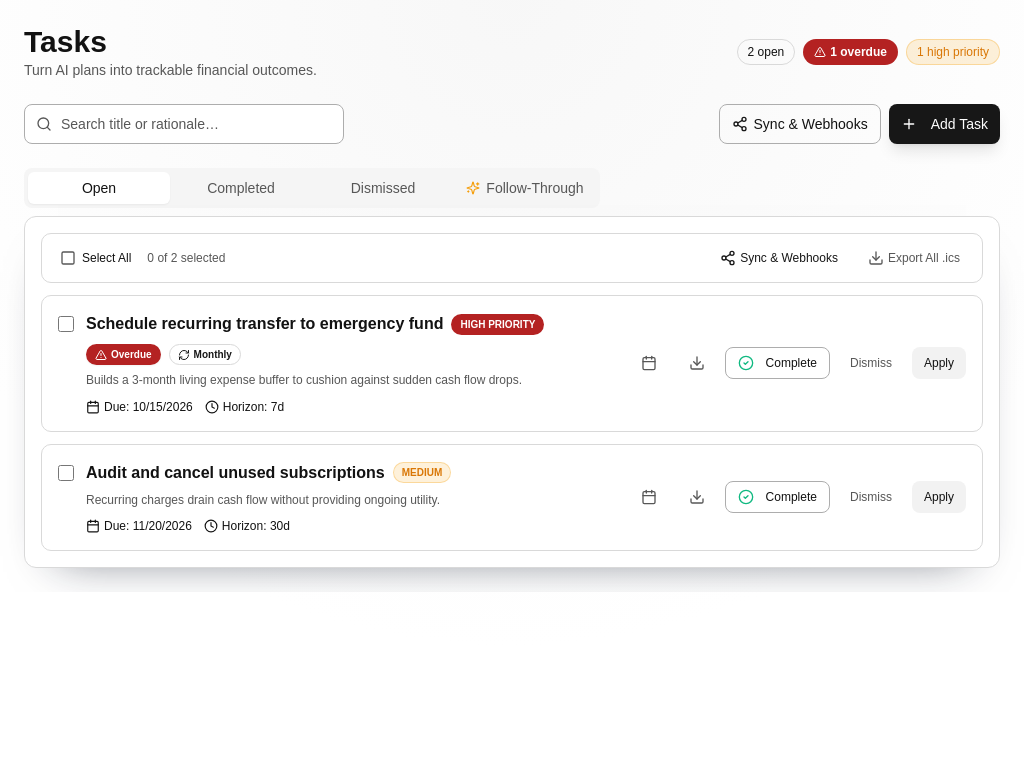
Scenario: TasksPage › opens task detail sheet on title click
expect the text "Schedule recurring transfer to emergency fund" is shown: met, box [86,312,443,336]
Click the button with aria-label "View task: Schedule recurring transfer to emergency fund" at (265, 324), box [86,312,613,414]
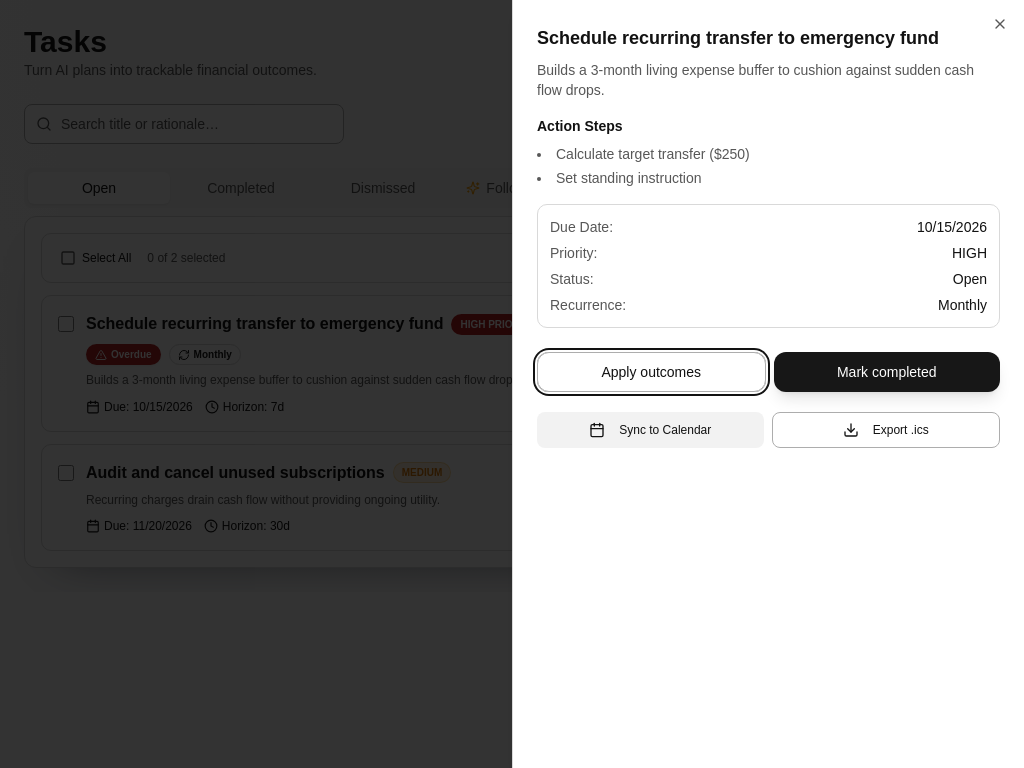
expect the dialog with test id "task-detail-sheet" is shown: met, box [512,0,1023,767]
expect the text "Action Steps" is shown: met, box [537,118,623,134]
expect the list item "Calculate target transfer ($250)" is shown: met, box [556,146,750,162]
